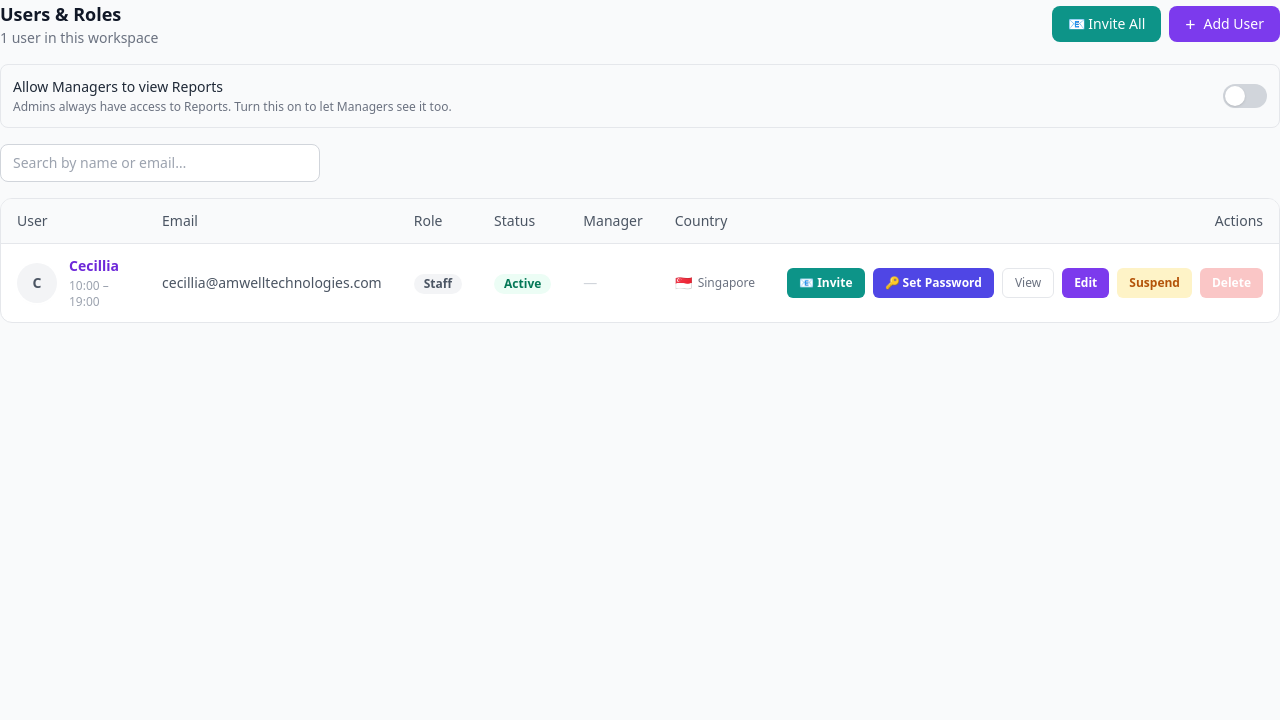
Test: UsersTab — Set Password › surfaces the error message from a non-2xx function response (the real edge-function failure shape)
The width and height of the screenshot is (1280, 720).
Expected: the text "cecillia@amwelltechnologies.com" is shown, [146,244,398,322]
Click the button "🔑 Set Password": [933, 283] box [872,268,994,298]
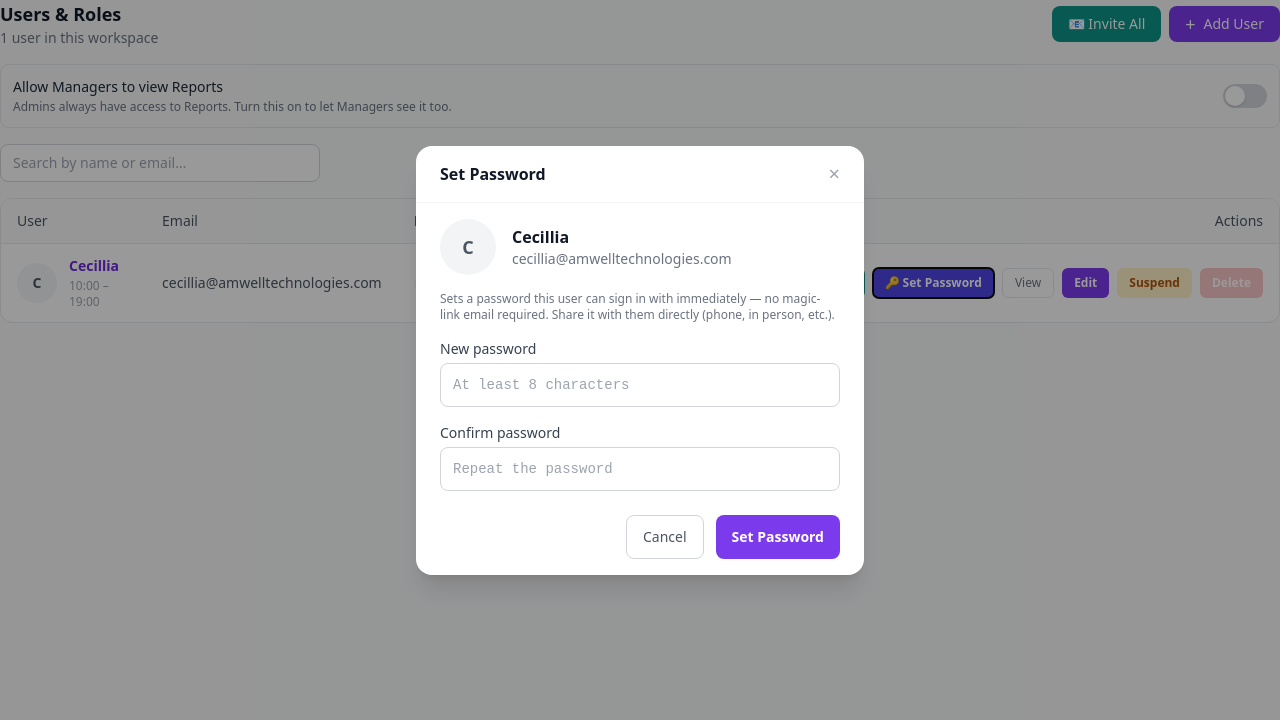
In the field with placeholder "At least 8 characters": [640, 384] box [440,362,840,406], type "SuperSecret1"
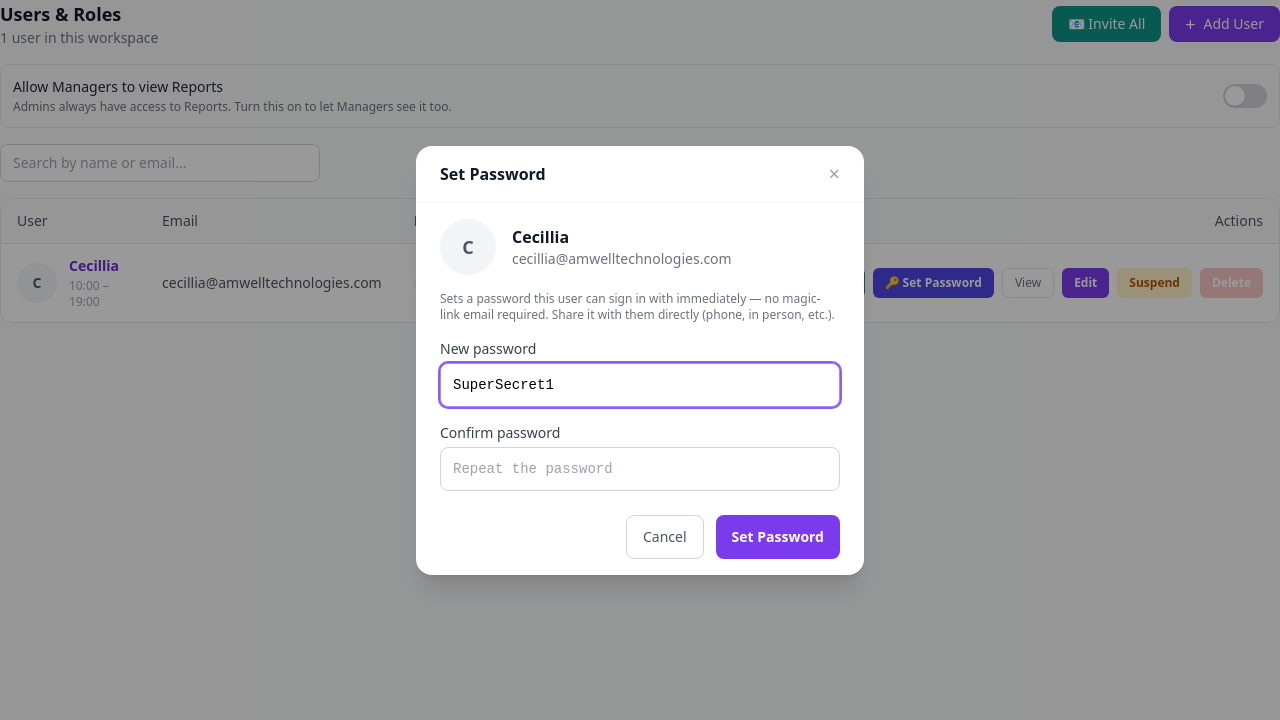
In the field with placeholder "Repeat the password": [640, 468] box [440,446,840,490], type "SuperSecret1"
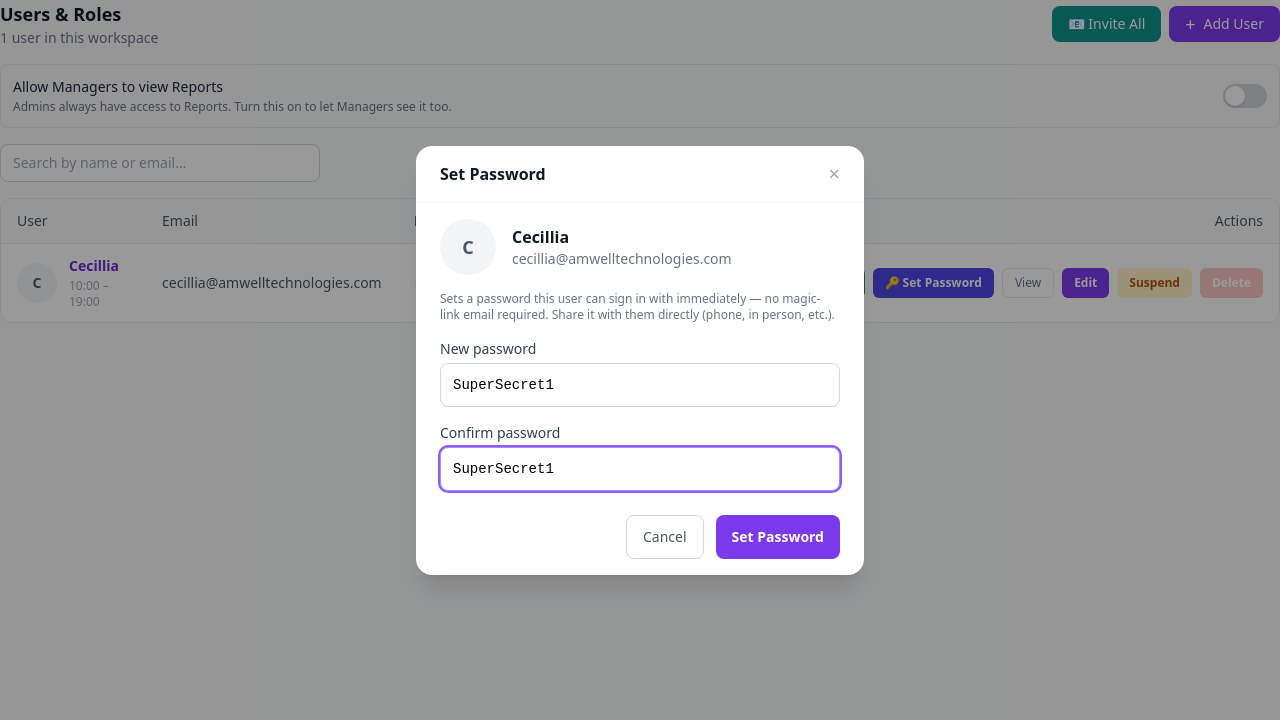
Click the button "Set Password": [778, 536] box [716,514,840,558]
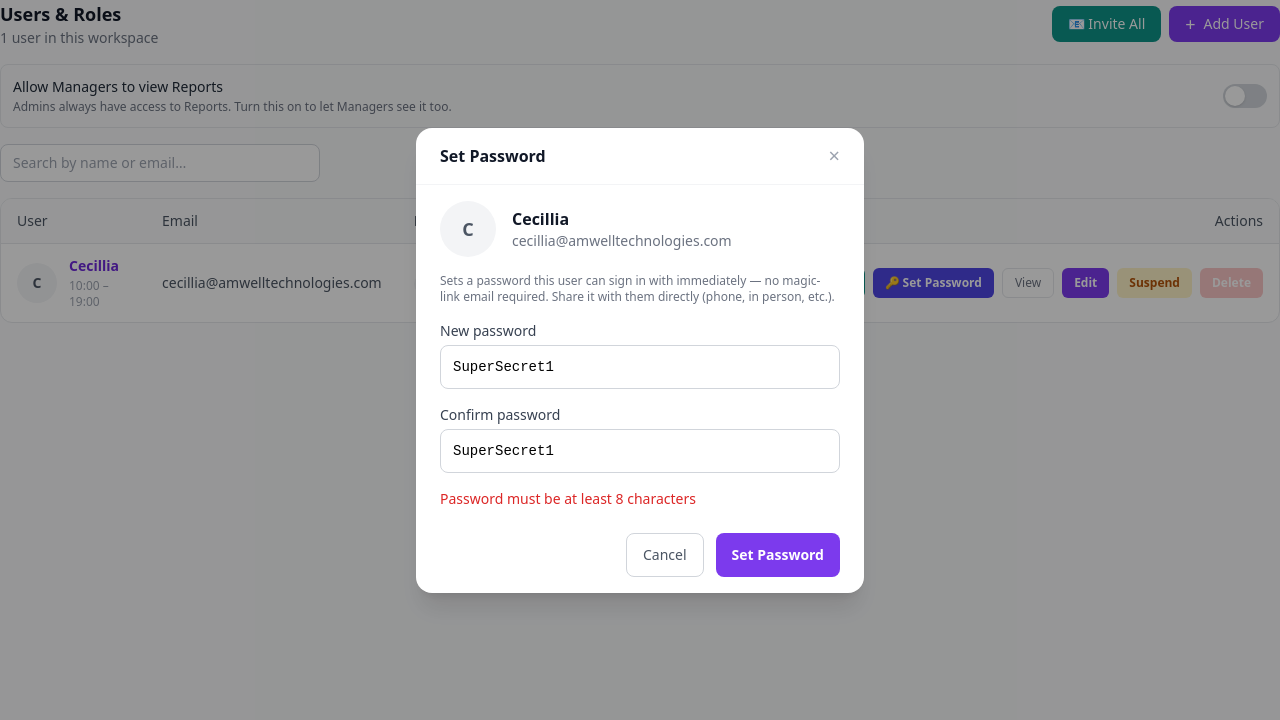
Expected: the text "Password must be at least 8 characters" is shown, [440,488,696,508]
